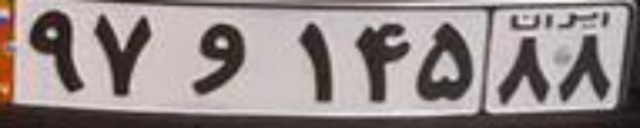1: (298, 20, 332, 101)
4: (352, 23, 412, 102)
5: (415, 22, 474, 102)
7: (88, 12, 157, 96)
8: (496, 35, 551, 103), (559, 33, 611, 102)
9: (24, 9, 84, 93)
vav: (188, 22, 246, 97)
